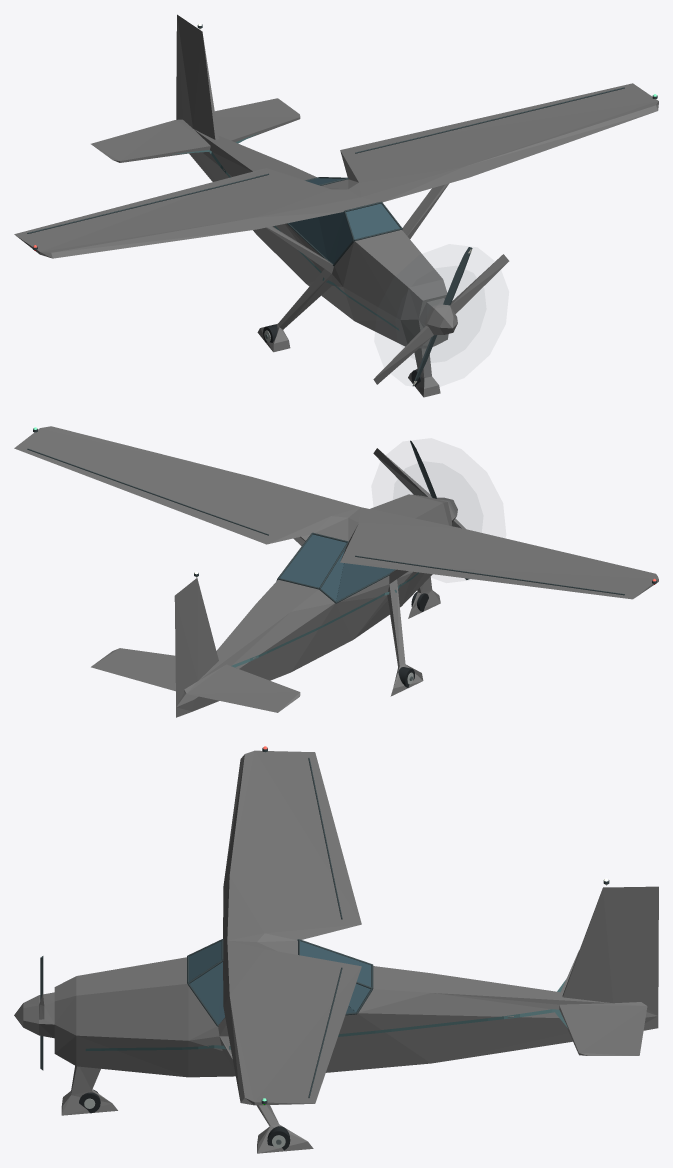
3 views of the same model, one above another, from view 1: azimuth 30°, elevation 25°; view 2: azimuth 150°, elevation 25°; view 3: azimuth 270°, elevation 25° (orthographic). The views are drawn at different scales.
Visible parts, largest first — view 1: PLANE1 | archived geometry, PLANE1 | cabin framing, panel hinges and markings, PLANE1 | pitched propeller blades and spinner; view 2: PLANE1 | archived geometry, PLANE1 | cabin framing, panel hinges and markings, PLANE1 | wheel fairing hubs and lights; view 3: PLANE1 | archived geometry, PLANE1 | cabin framing, panel hinges and markings, PLANE1 | wheel fairing hubs and lights.
Part boxes in pixels (x1=…): PLANE1 | archived geometry: x1=14, y1=14, x2=658, y2=397; PLANE1 | cabin framing, panel hinges and markings: x1=27, y1=87, x2=624, y2=330; PLANE1 | pitched propeller blades and spinner: x1=412, y1=247, x2=472, y2=386; PLANE1 | archived geometry: x1=14, y1=426, x2=658, y2=717; PLANE1 | cabin framing, panel hinges and markings: x1=27, y1=448, x2=624, y2=668; PLANE1 | wheel fairing hubs and lights: x1=33, y1=427, x2=656, y2=687; PLANE1 | archived geometry: x1=14, y1=750, x2=658, y2=1153; PLANE1 | cabin framing, panel hinges and markings: x1=85, y1=758, x2=567, y2=1097; PLANE1 | wheel fairing hubs and lights: x1=79, y1=746, x2=609, y2=1150.
Bounding box in the file's own units: 10.12 × 3.11 × 7.78.
